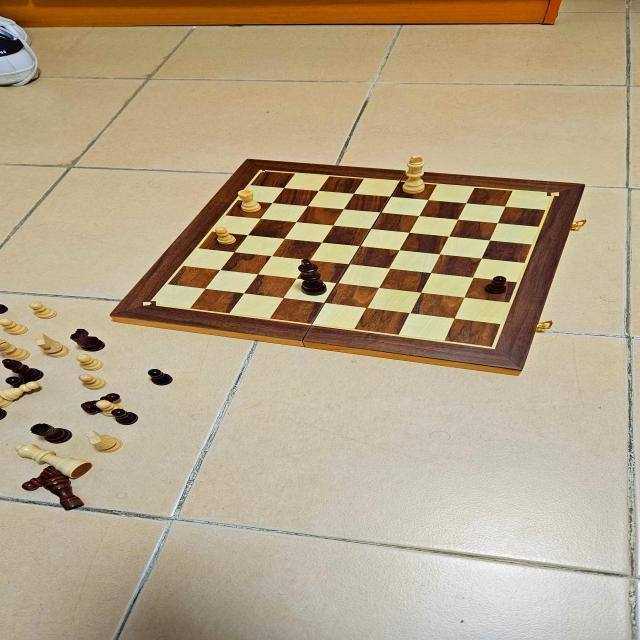chess-table-corners: (481, 343, 499, 352), (143, 302, 156, 306), (547, 192, 559, 196), (257, 168, 265, 172)
